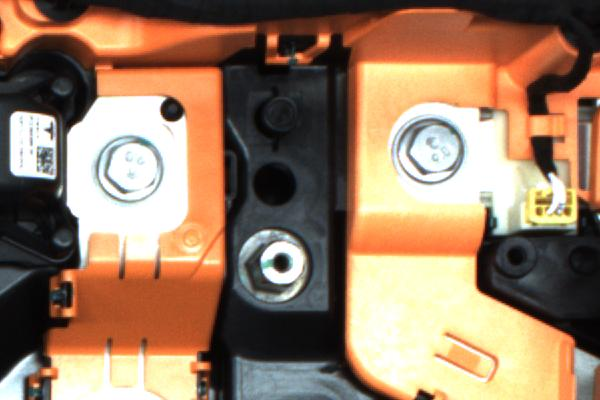nut_b: (91, 131, 180, 211), (393, 112, 467, 198)
